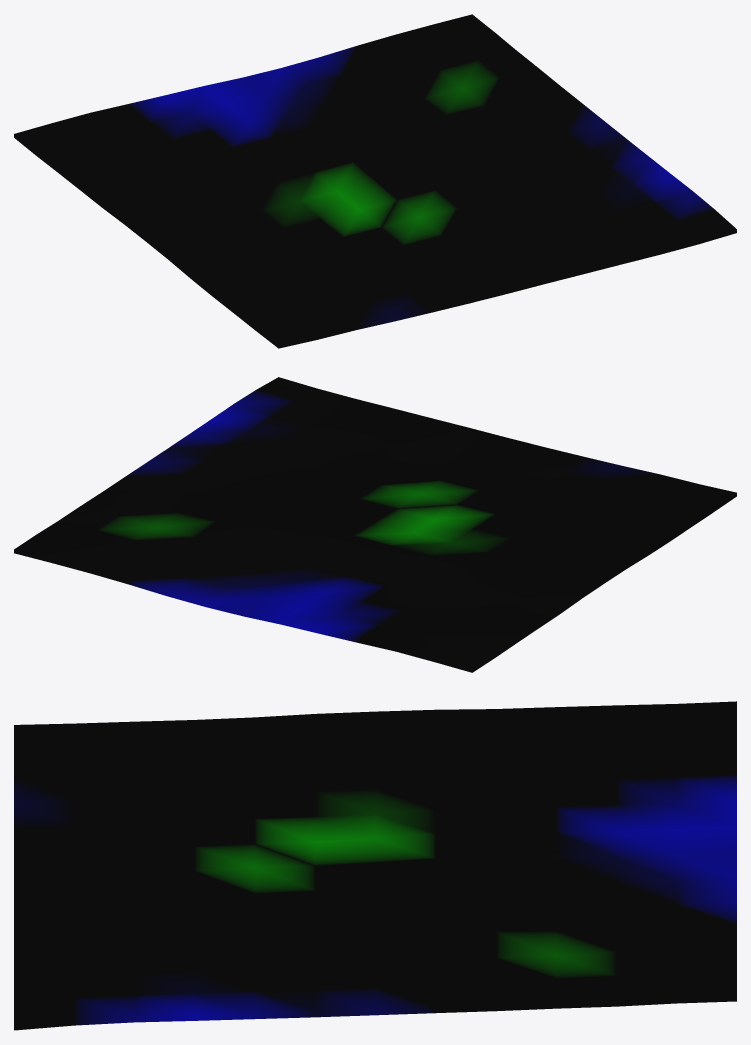
File: coast_8_5.glb
3 views of the same model, one above another, from view 1: azimuth 30°, elevation 25°; view 2: azimuth 150°, elevation 25°; view 3: azimuth 270°, elevation 25° (orthographic). The views are drawn at different scales.
Visible parts, largest first — view 1: terrain; view 2: terrain; view 3: terrain.
Boxes of the visible parts, box(x1,y1,x2,y2) form: terrain: box(14, 14, 736, 348); terrain: box(14, 377, 736, 672); terrain: box(14, 701, 736, 1030).
Bounding box in the file's own units: 192 × 12.08 × 192.
